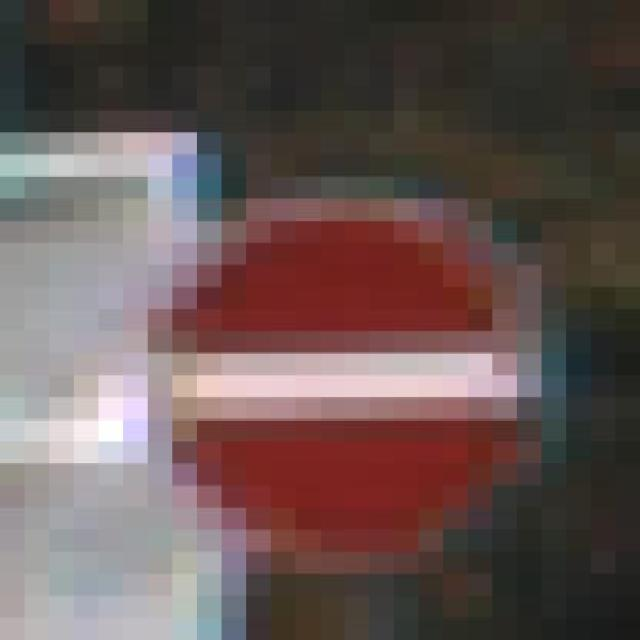B2: (152, 199, 538, 567)
